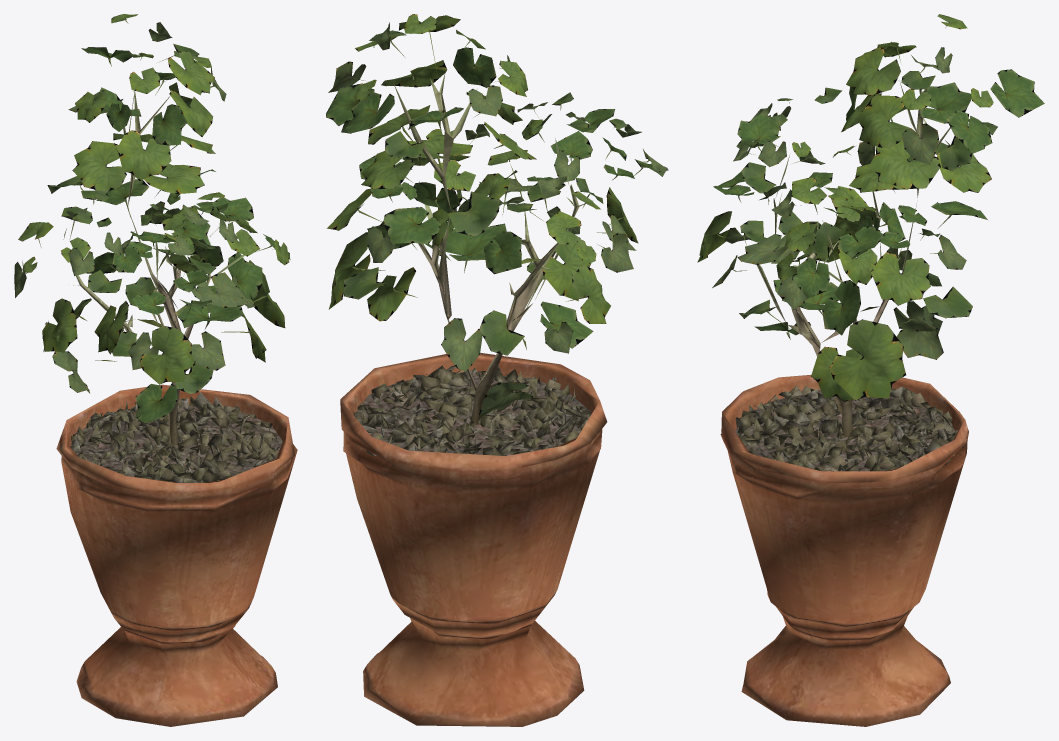
Rendered from potted_plant_01.glb.
3 views of the same model, side by side, from view 1: azimuth 30°, elevation 25°; view 2: azimuth 150°, elevation 25°; view 3: azimuth 270°, elevation 25° (orthographic). The views are drawn at different scales.
Visible parts, largest first — view 1: potted_plant_01_stem, potted_plant_01_leaves; view 2: potted_plant_01_stem, potted_plant_01_leaves; view 3: potted_plant_01_stem, potted_plant_01_leaves.
Part boxes in pixels (left/top/right/bottom): potted_plant_01_stem: left=56, top=90, right=297, bottom=726; potted_plant_01_leaves: left=14, top=14, right=290, bottom=423; potted_plant_01_stem: left=340, top=71, right=607, bottom=726; potted_plant_01_leaves: left=326, top=14, right=668, bottom=417; potted_plant_01_stem: left=720, top=81, right=968, bottom=726; potted_plant_01_leaves: left=697, top=14, right=1044, bottom=401.
Bounding box in the file's own units: 0.5866 × 1.33 × 0.6336.
Materials: 2 (2 with a texture image).
